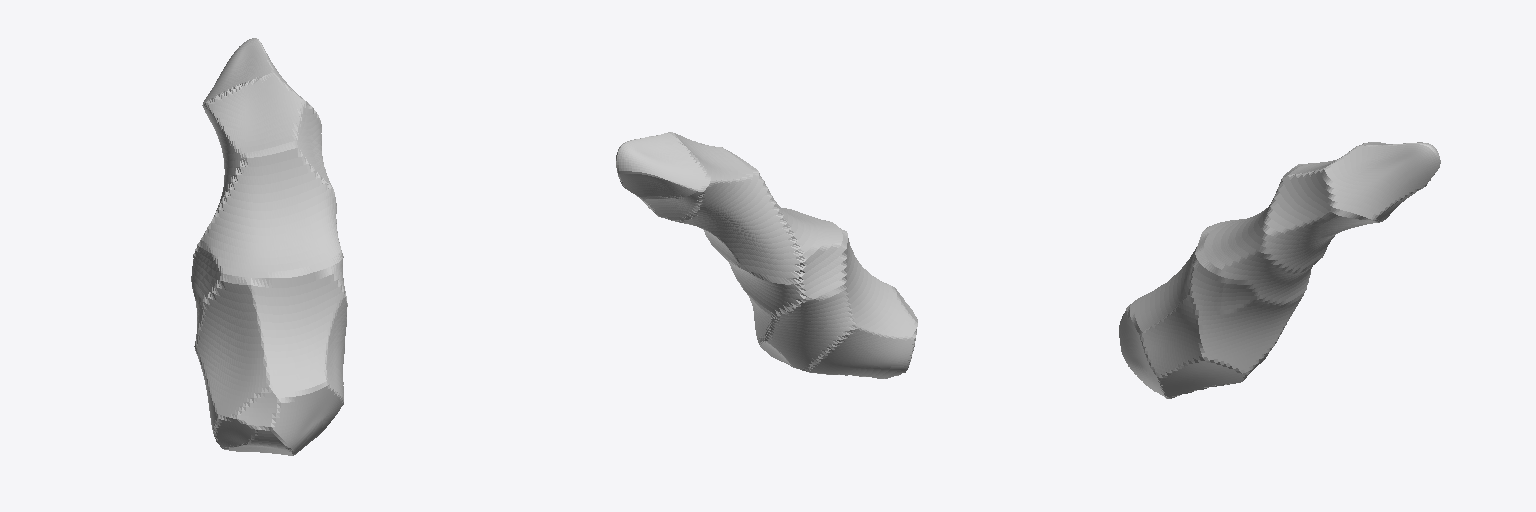
The model's file is SpireHiPoly.obj.
The picture shows the model from 3 angles: view 1: azimuth 30°, elevation 25°; view 2: azimuth 150°, elevation 25°; view 3: azimuth 270°, elevation 25°; orthographic projection.
Visible parts, largest first — view 1: RockSpireHi_Cube.002; view 2: RockSpireHi_Cube.002; view 3: RockSpireHi_Cube.002.
Boxes of the visible parts, box(x1,y1,x2,y2) form: RockSpireHi_Cube.002: box(191, 38, 347, 455); RockSpireHi_Cube.002: box(616, 132, 917, 378); RockSpireHi_Cube.002: box(1119, 142, 1440, 398).
Bounding box in the file's own units: 1.87 × 2.84 × 2.8.